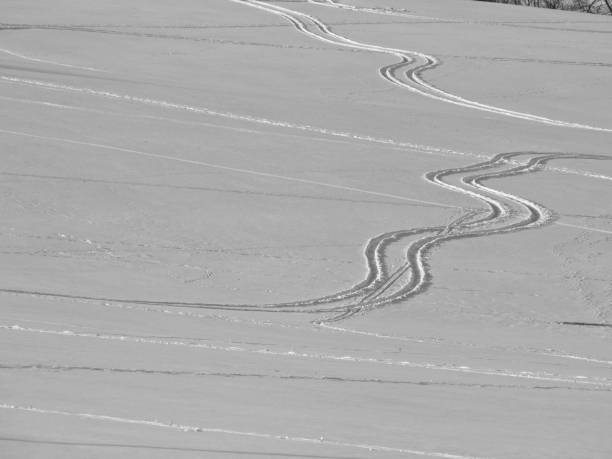vehicle_track: (1, 152, 610, 322), (229, 0, 611, 131)
